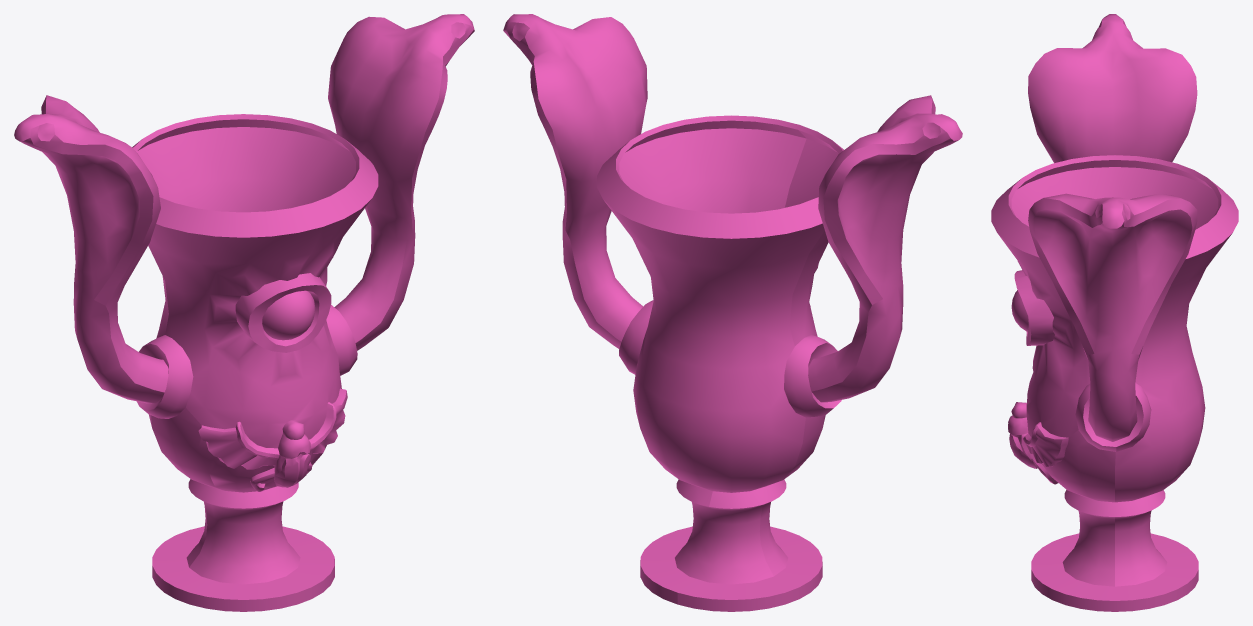
File: SM_Desert_Urn_1.fbx
The picture shows the model from 3 angles, left to right: view 1: azimuth 30°, elevation 25°; view 2: azimuth 150°, elevation 25°; view 3: azimuth 270°, elevation 25°; orthographic projection. The views are drawn at different scales.
Parts seen in each view (by area): view 1: SM_Desert_Urn_1; view 2: SM_Desert_Urn_1; view 3: SM_Desert_Urn_1.
Boxes of the visible parts, bbox=[...] form: SM_Desert_Urn_1: bbox=[14, 14, 474, 611]; SM_Desert_Urn_1: bbox=[503, 14, 962, 611]; SM_Desert_Urn_1: bbox=[991, 14, 1238, 611].
Bounding box in the file's own units: 1.46 × 1.55 × 0.7474.
